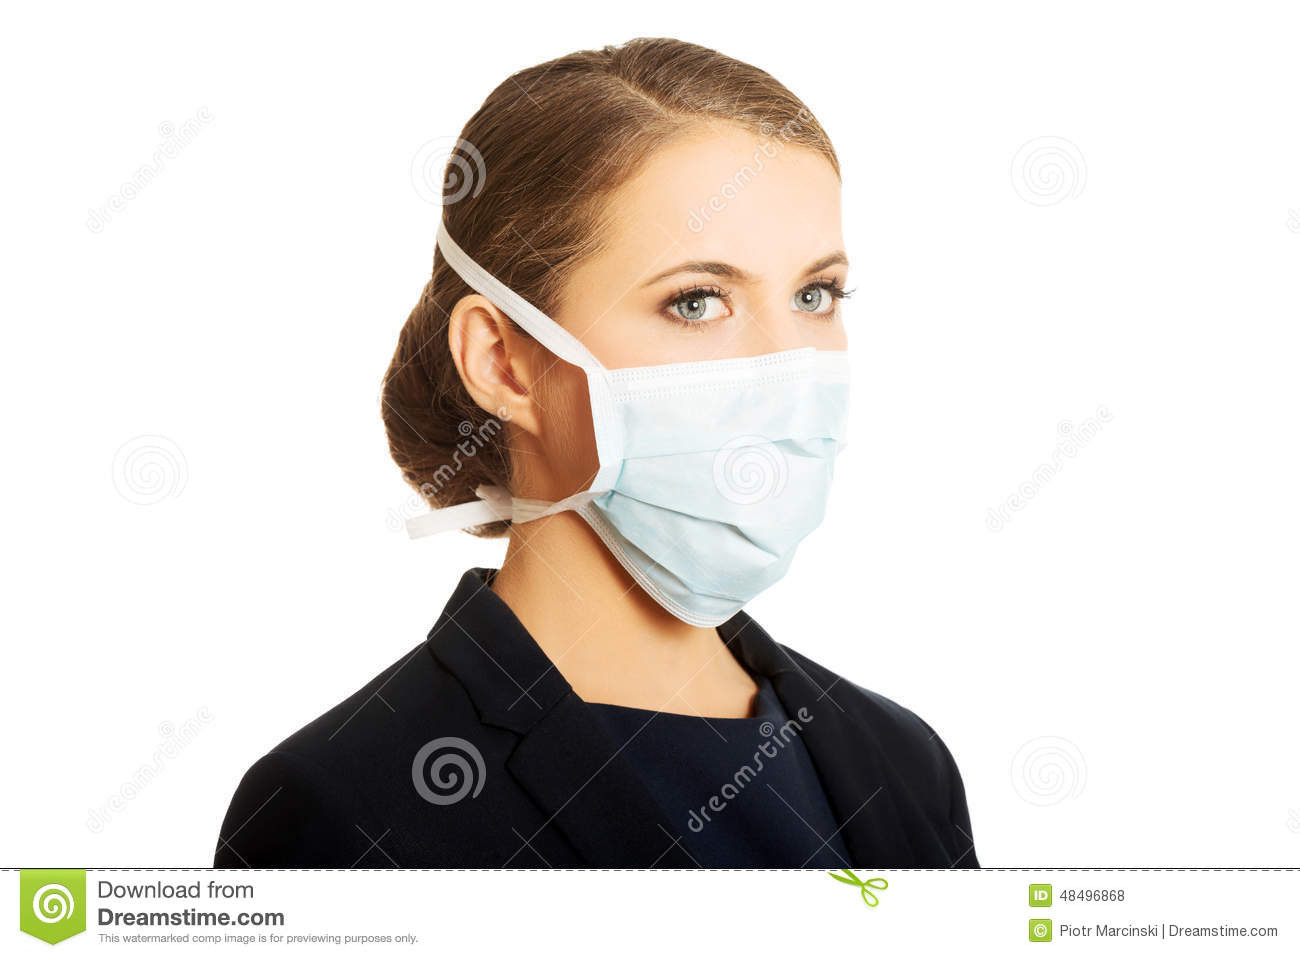mask: (557, 339, 857, 637)
